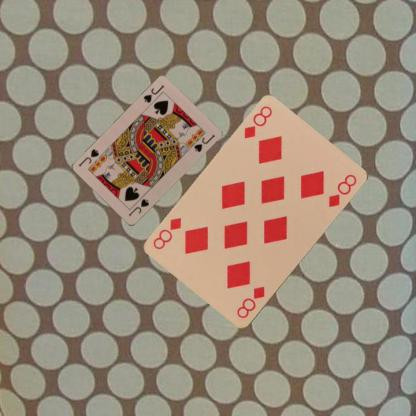8d: (241, 103, 273, 141), (234, 284, 266, 320)
Js: (141, 82, 166, 104), (126, 196, 150, 218)
